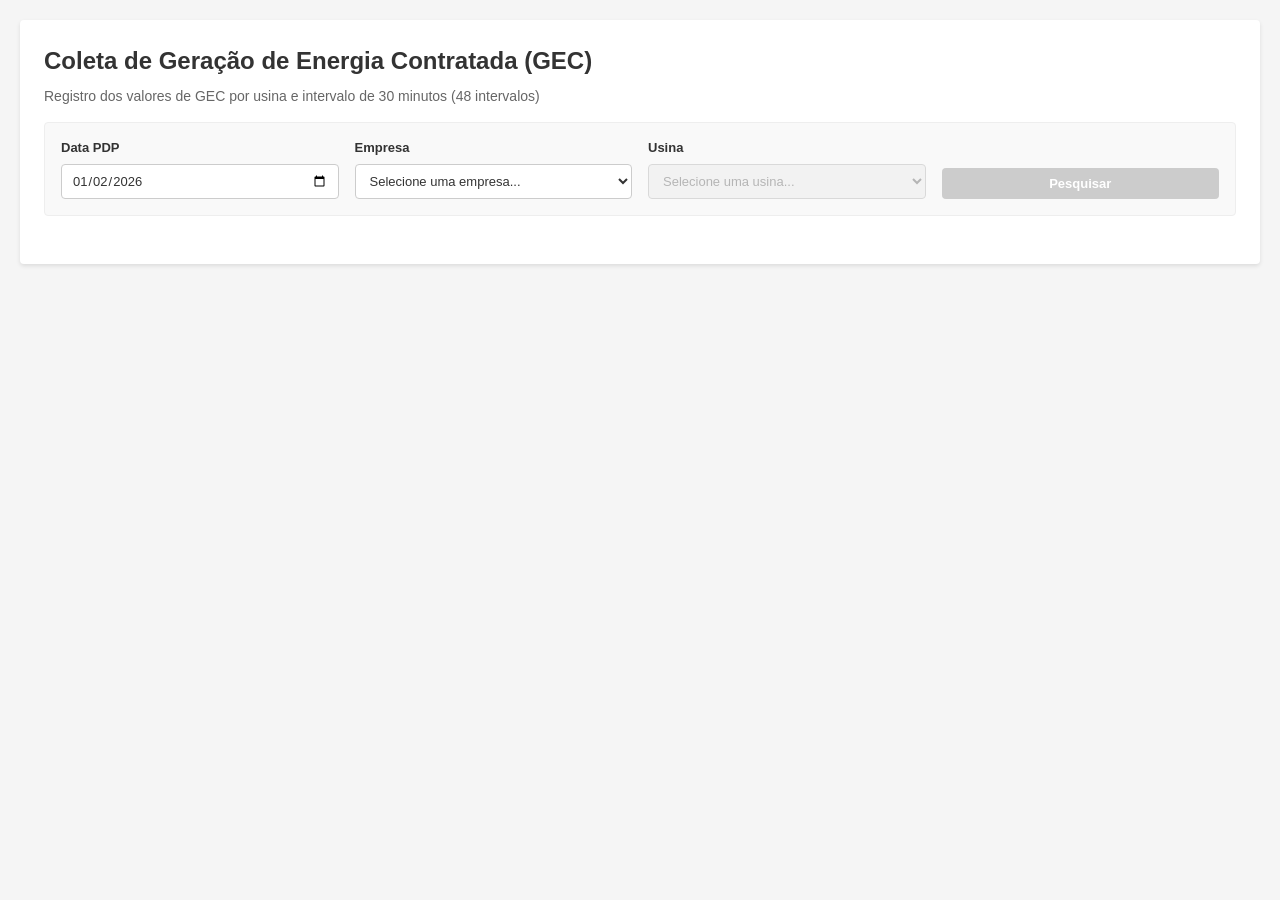
Test: GEC Component › deve exibir erro para valores negativos
Select "Empresa Geradora Norte" in the dropdown with test id "company-filter" at [493, 181], box [354,164,632,199]
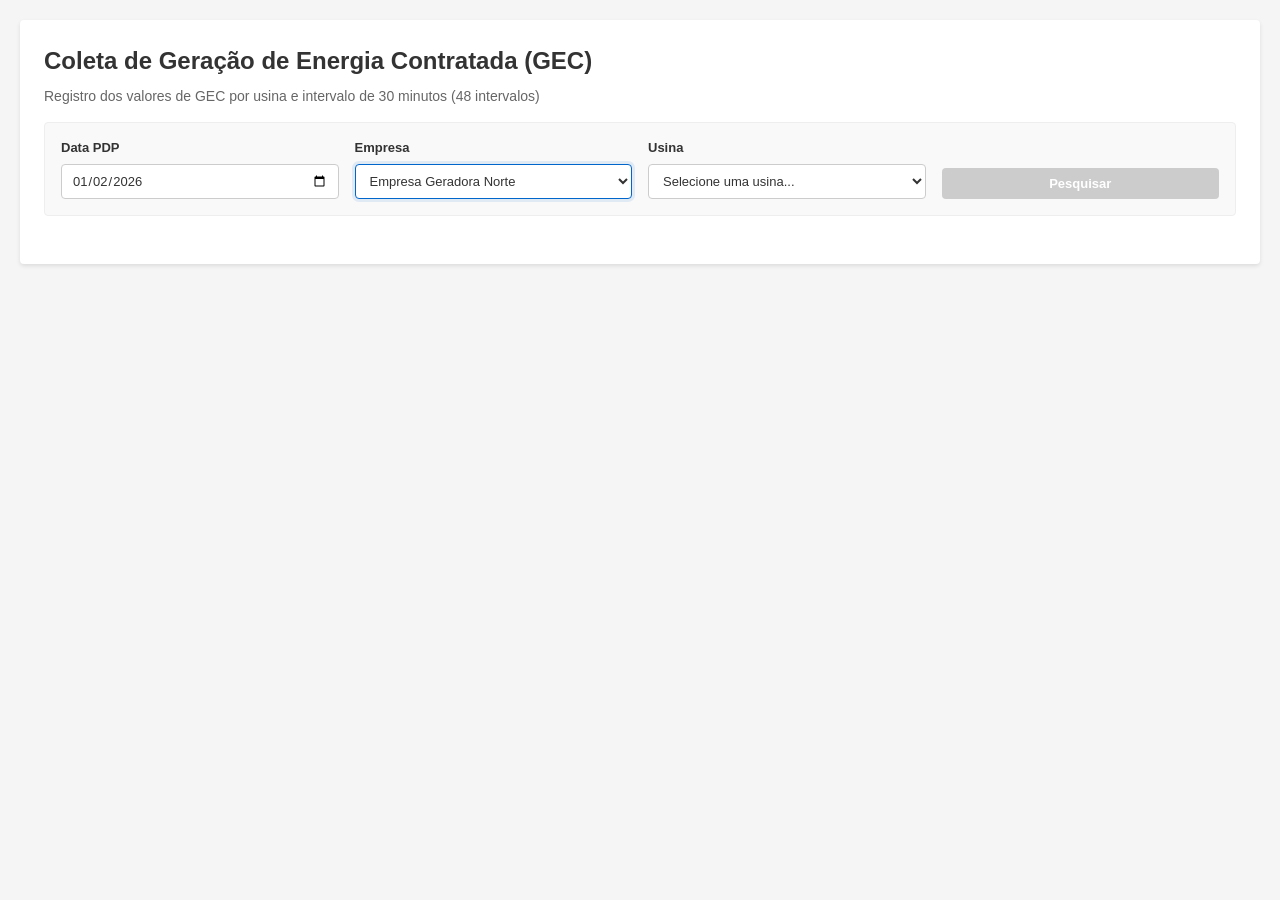
Select "Usina Geradora 1" in the dropdown with test id "plant-filter" at [787, 181], box [648,164,926,199]
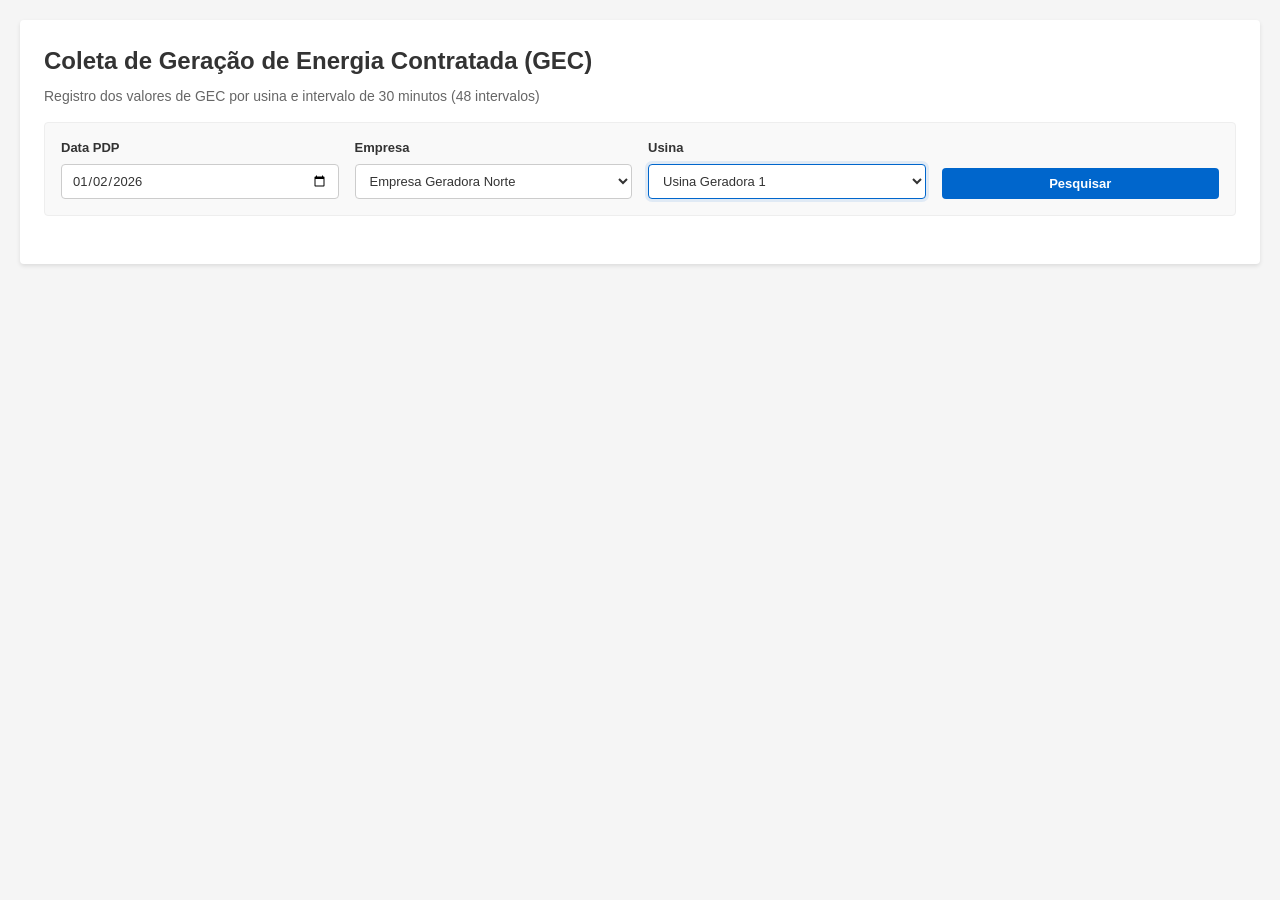
Click the button with test id "btn-search" at [1080, 183], box [942,168,1219,199]
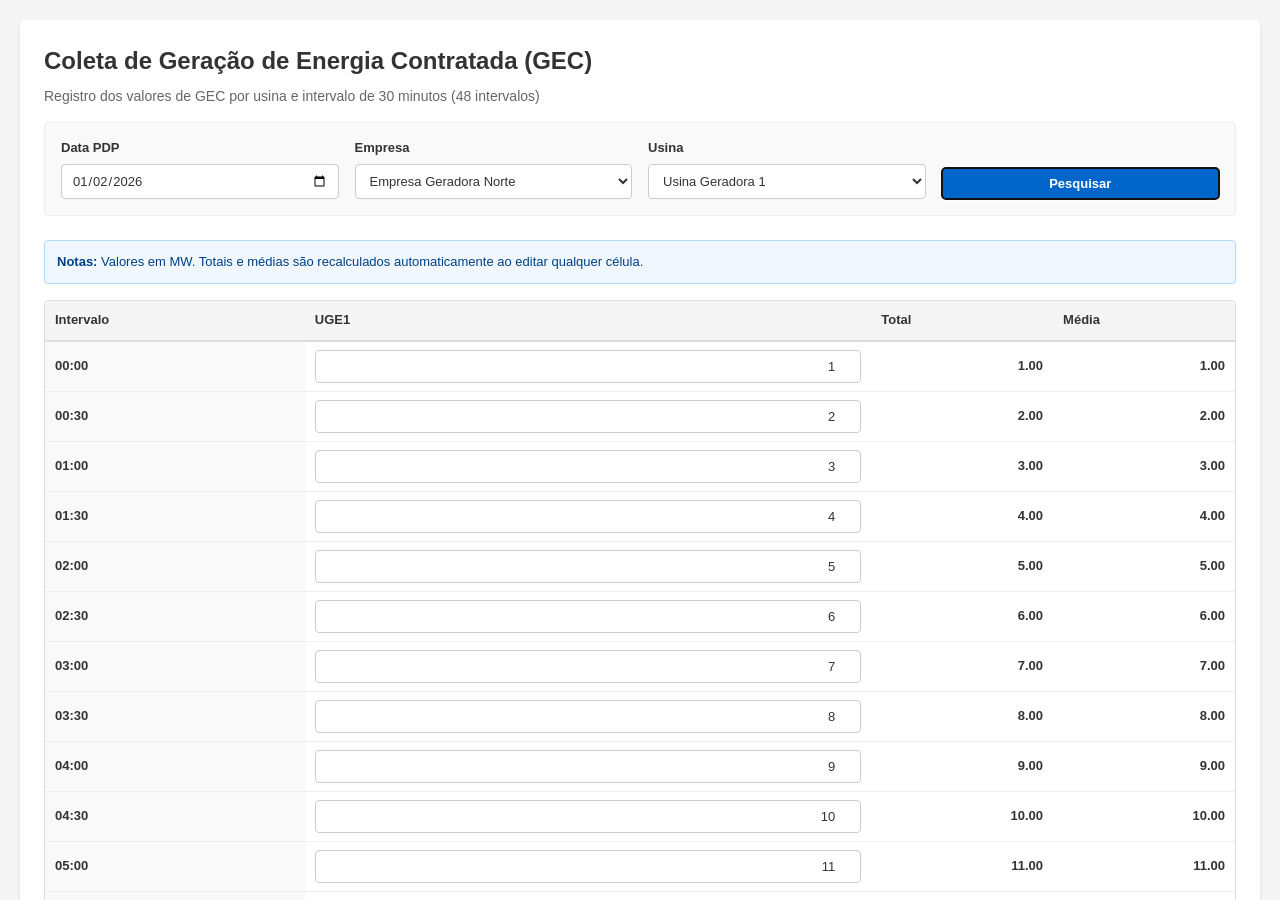
Clear the number field with test id "input-1-UGE1" at [588, 366], box [315,350,861,383]
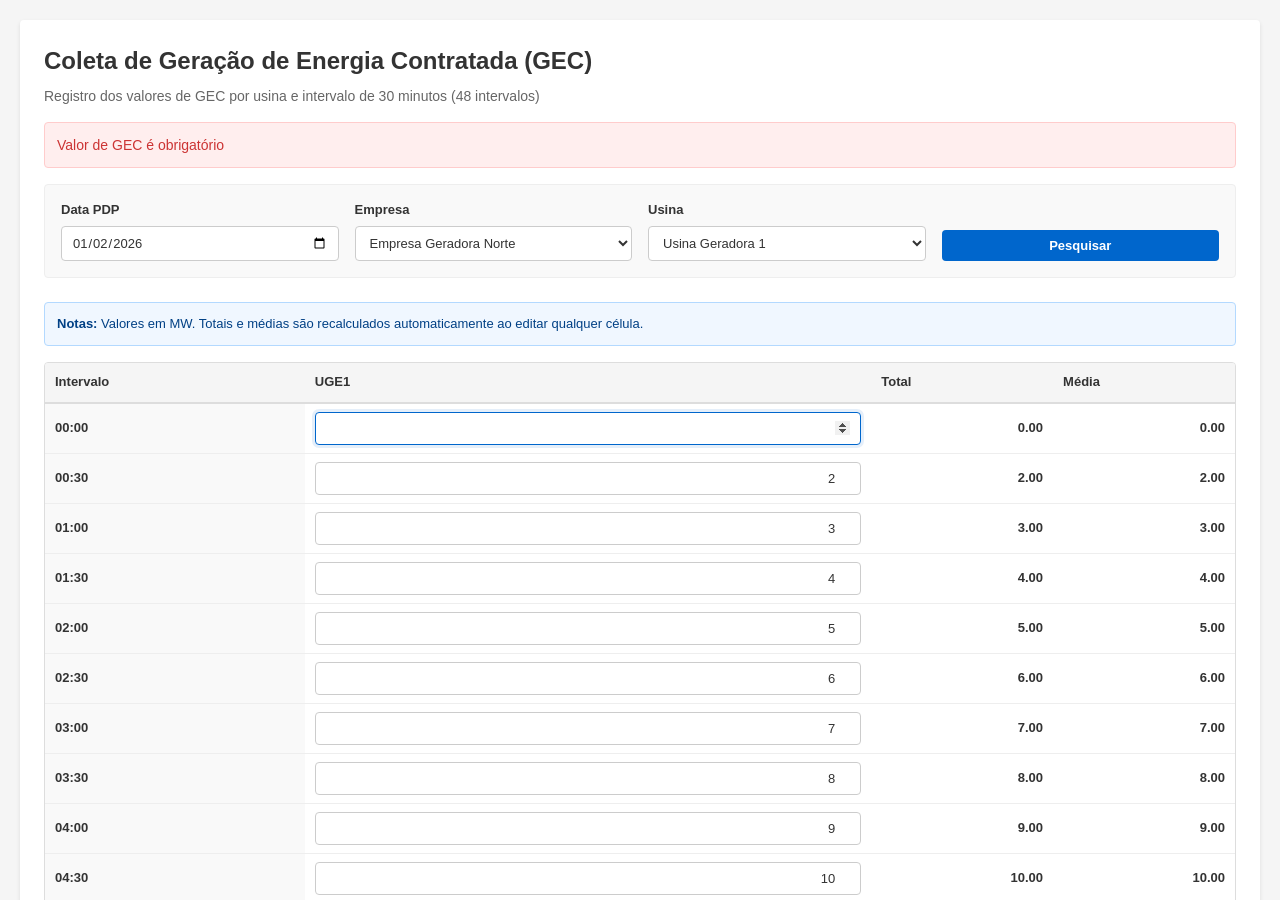
Type "-5" into the number field with test id "input-1-UGE1" at [588, 428], box [315,412,861,445]
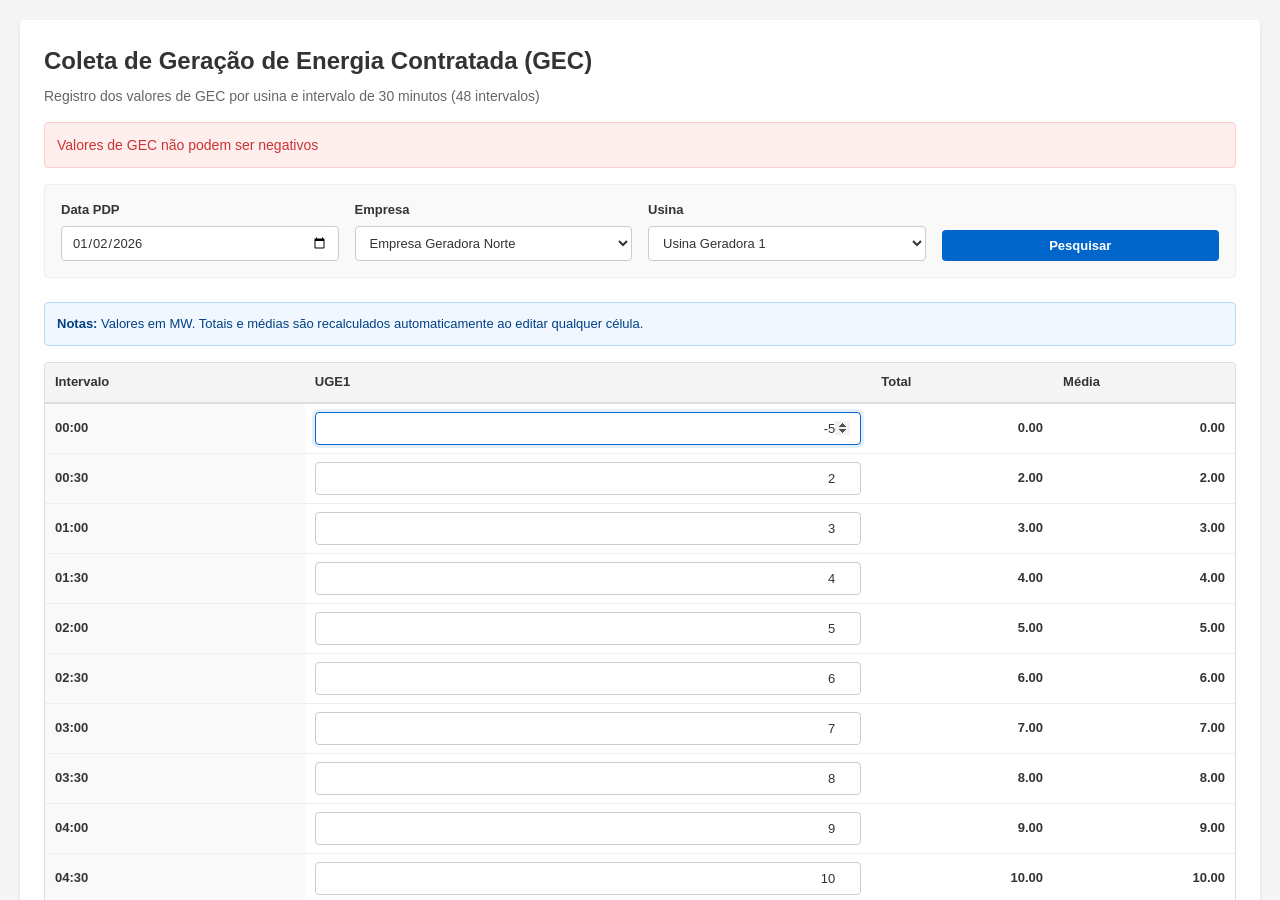
expect the text with test id "error-message" shows "não podem ser negativos": met, box [57,137,318,153]
